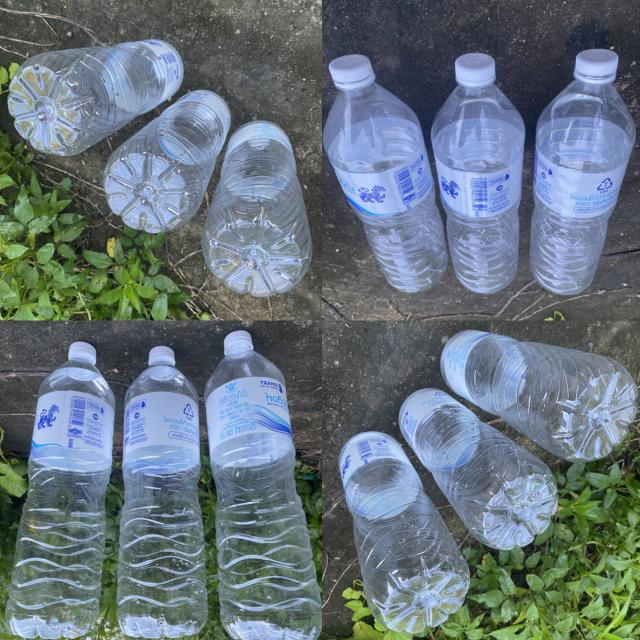plastik: (205, 331, 321, 640), (6, 342, 116, 637), (323, 56, 447, 293), (117, 346, 208, 637), (338, 432, 469, 634), (530, 49, 635, 295), (440, 331, 638, 461), (399, 389, 557, 549), (431, 53, 525, 294), (8, 40, 184, 156), (201, 121, 312, 297), (103, 90, 230, 232)
